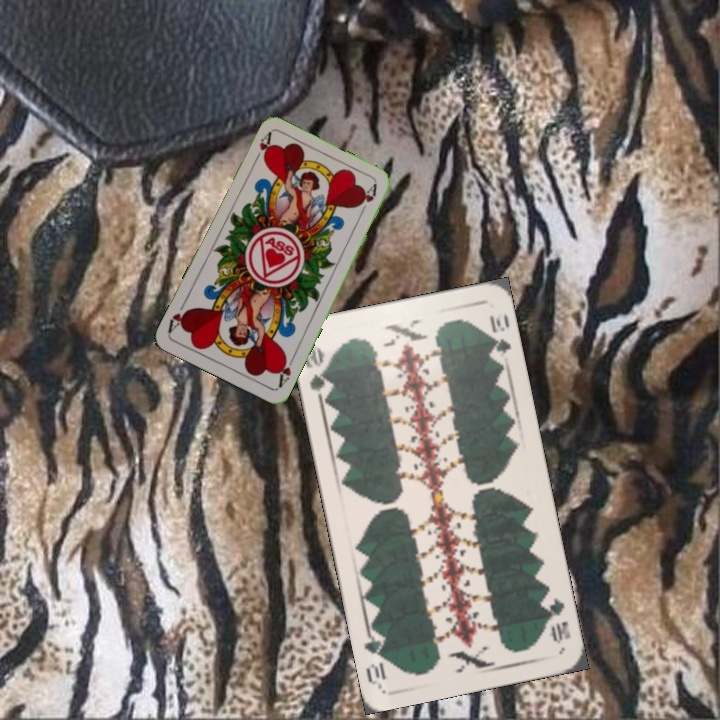G10: (299, 342, 333, 401), (540, 593, 574, 646)
HA: (249, 129, 274, 167), (274, 351, 297, 390)
